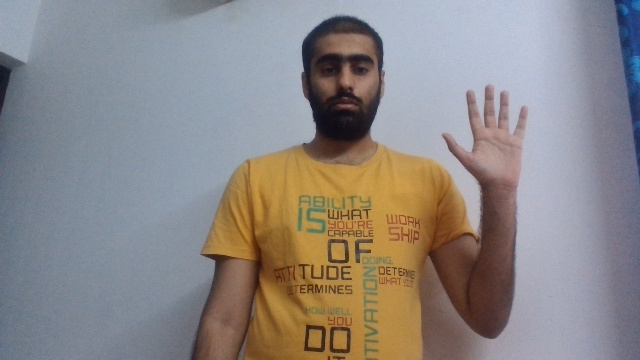paper: (441, 83, 527, 184)
